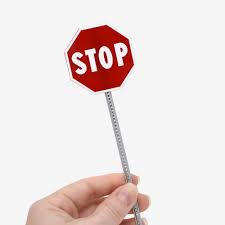stop sign: (66, 25, 134, 91)
